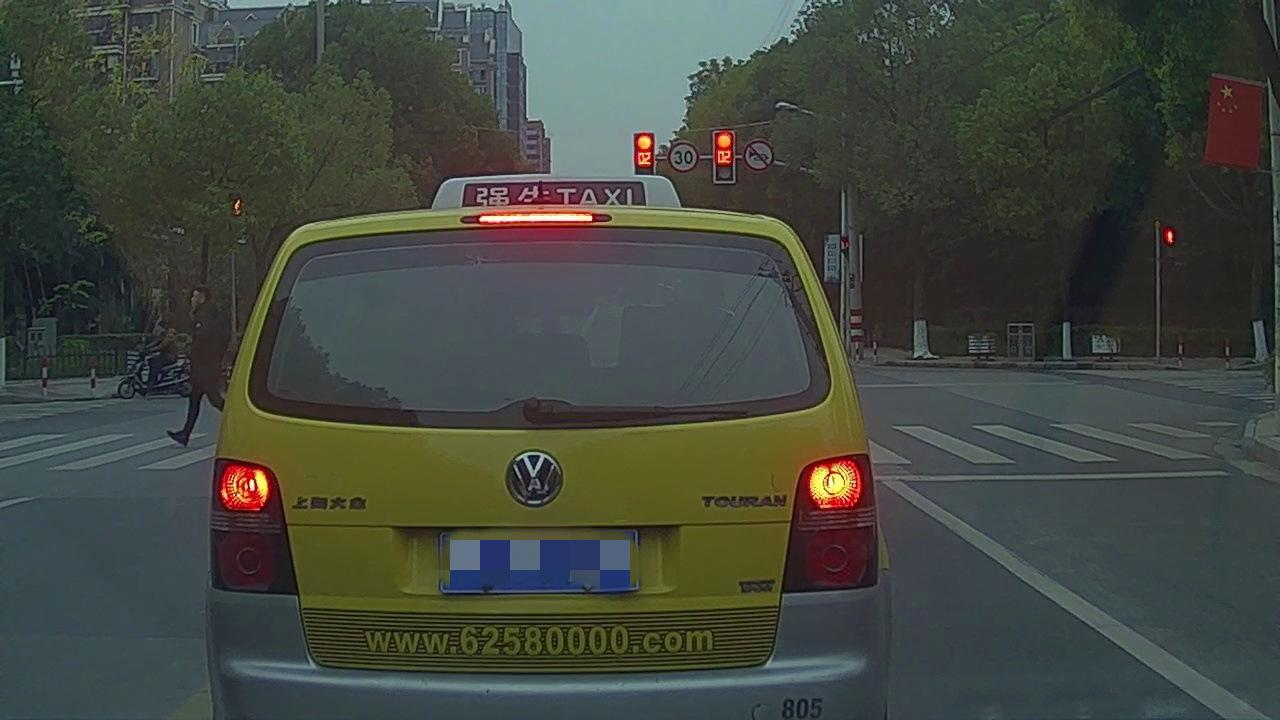traffic_light: (637, 132, 655, 175), (716, 135, 733, 180)
